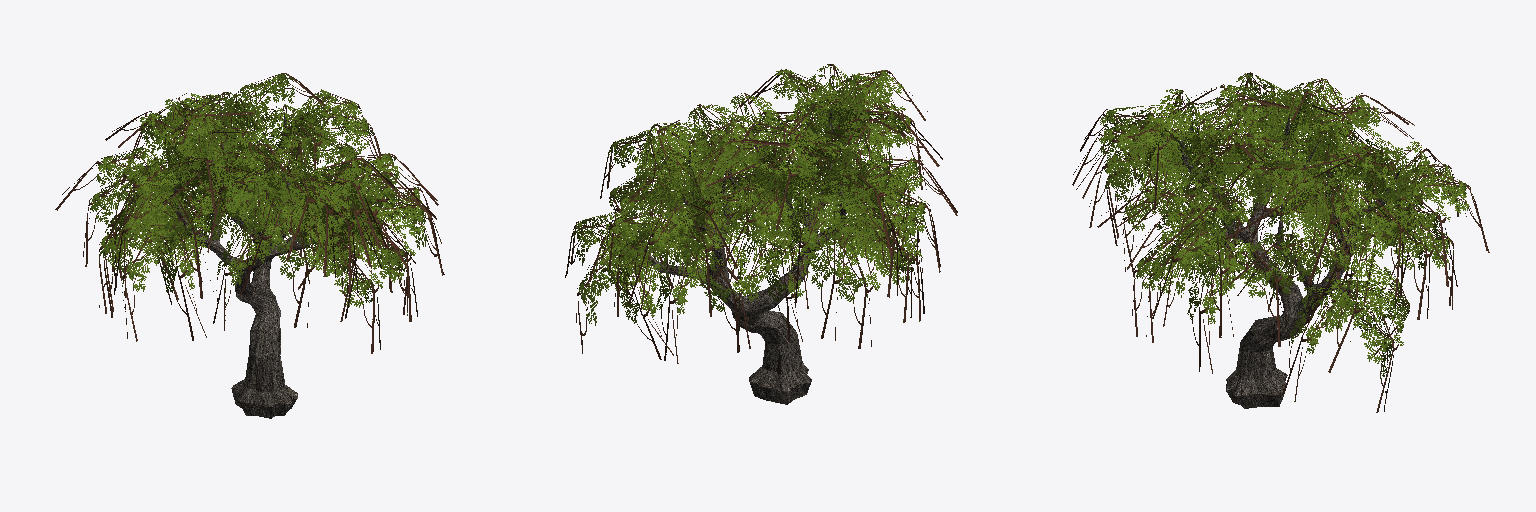
The picture shows the model from 3 angles: view 1: azimuth 30°, elevation 25°; view 2: azimuth 150°, elevation 25°; view 3: azimuth 270°, elevation 25°; orthographic projection.
Visible parts, largest first — view 1: Branches, Trunk; view 2: Branches, Trunk; view 3: Branches, Trunk.
Part boxes in pixels (x1,y1,x2,y2): Branches: (55,73,444,353); Trunk: (171,106,347,418); Branches: (565,64,957,363); Trunk: (638,107,847,404); Branches: (1072,72,1489,412); Trunk: (1180,114,1402,408).
Bounding box in the file's own units: 27.42 × 21.28 × 28.89.
2 materials, 2 textured.